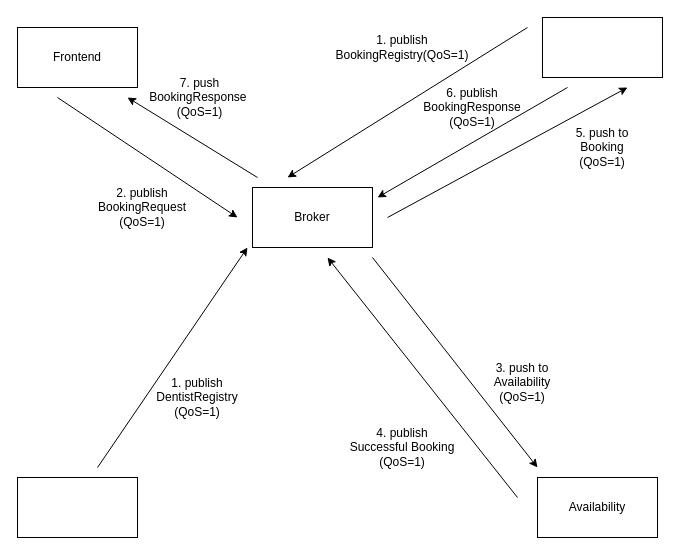
Some shapes in this 680 by 555 pixel diagram are drawn without their labels. Here are the shapes that lost their labels. From the top down, the centre of each, then its label:
point 602,47: Booking
point 77,507: Dentist
